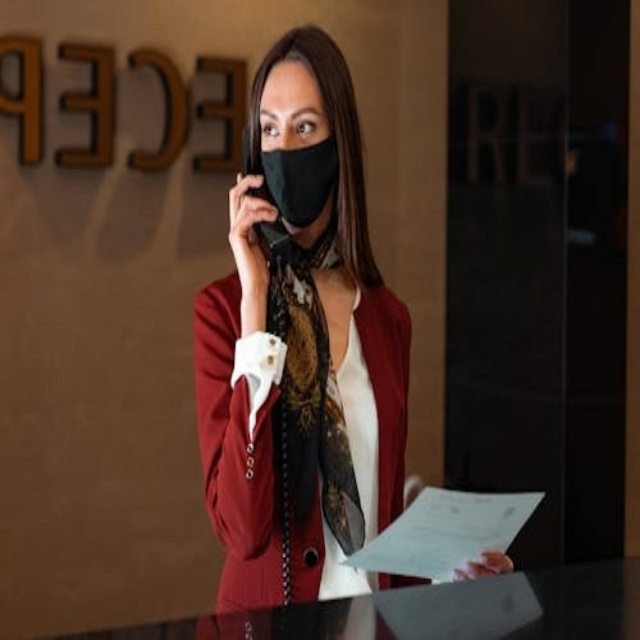Mascara: (257, 132, 339, 228)
Sin_gafas: (255, 102, 324, 142)
Sin_guantes: (224, 161, 282, 296), (446, 550, 515, 582)
